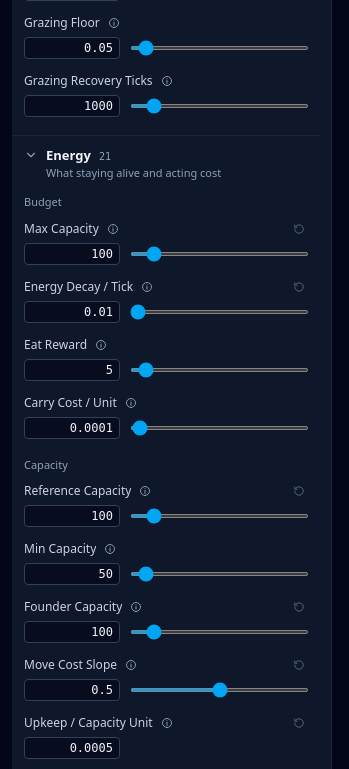
Test: ConfigPanel › clears field errors when the draft is reset
(page scrolled)
Replace the text in the number field with test id "config-field-energy-costs-eat-reward-per-food" with "7.5" at (72, 370), box [24,359,120,381]
(page scrolled)
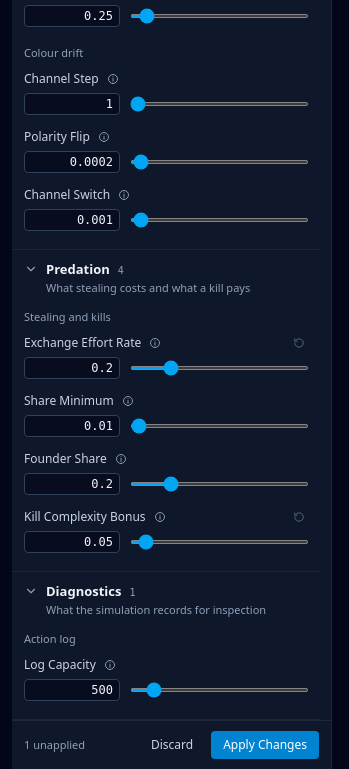
Click the button "Apply Changes" at (265, 745), box [211,731,319,759]
(page scrolled)
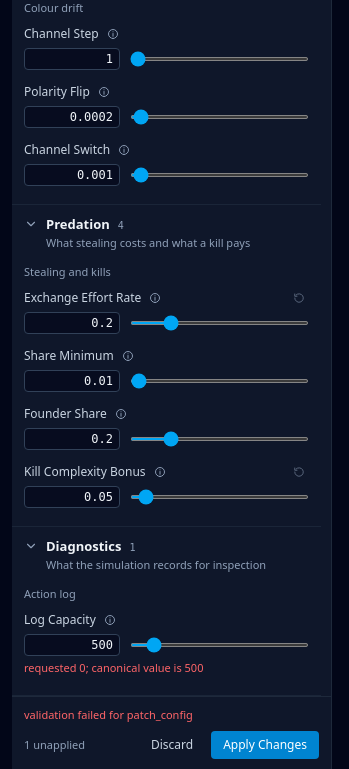
Check: the text "requested 0; canonical value is 500" is shown, box [24,660,204,675]
Click the button with test id "config-reset" at (172, 745), box [141,731,203,759]
(page scrolled)
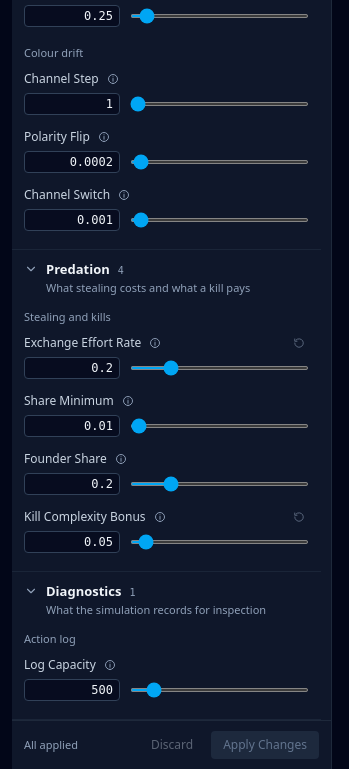
Check: the text with test id "field-error-action_log-capacity" is gone
Check: the message with test id "config-error" is gone
